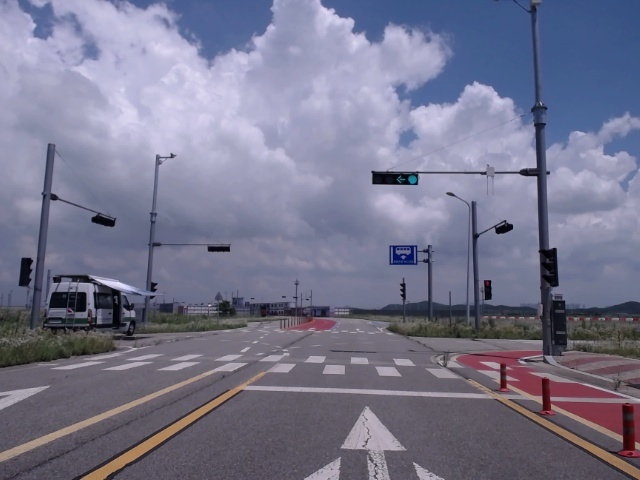all_green_4: (375, 173, 416, 183)
